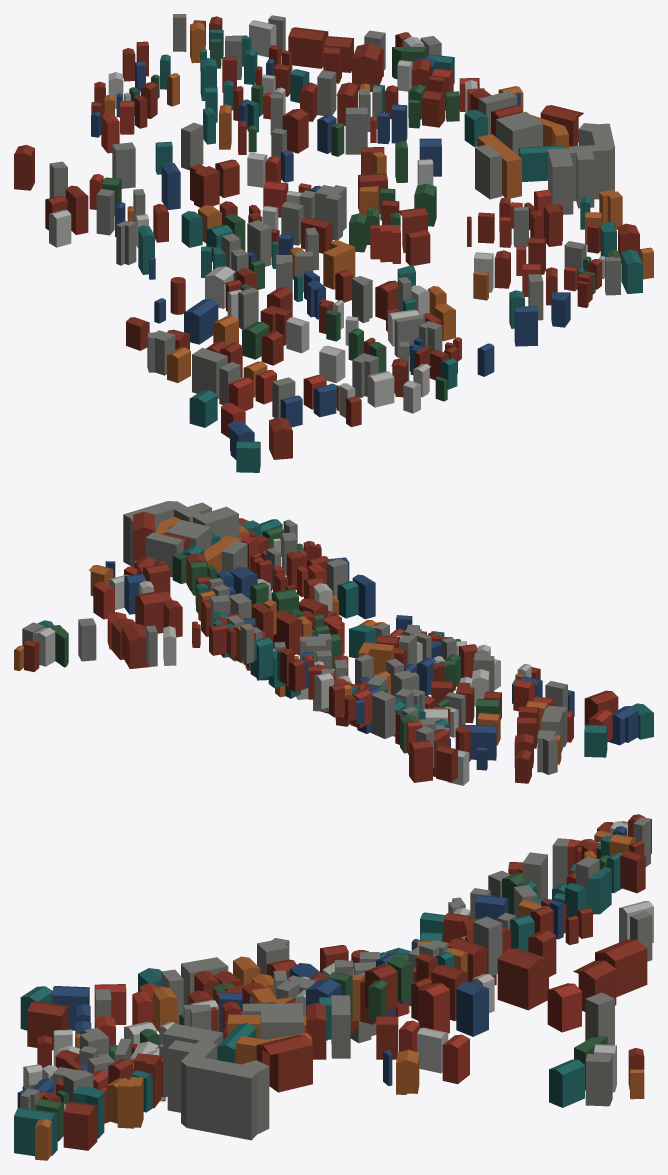
The model's file is near-17-109443-59483.c067c902.glb.
3 views of the same model, one above another, from view 1: azimuth 30°, elevation 25°; view 2: azimuth 150°, elevation 25°; view 3: azimuth 270°, elevation 25° (orthographic). The views are drawn at different scales.
Size of the model in its own units: 322 by 162 by 304.
